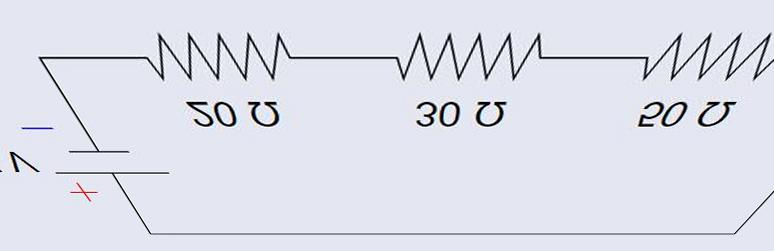resistor: (127, 18, 317, 91), (380, 16, 567, 85), (631, 8, 773, 94)
